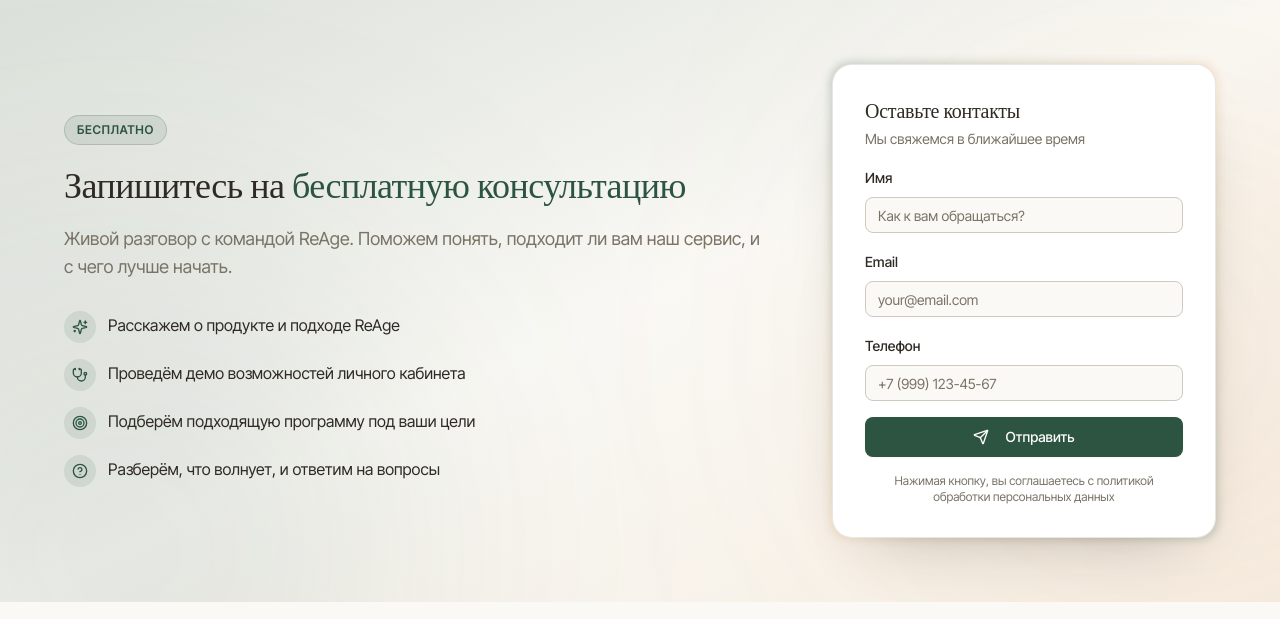
Test: ConsultationCtaBlock › submits successfully without a phone (phone is optional)
This screenshot has width=1280, height=619.
In the field labelled "Имя": (1024, 215) [865,197,1183,233], type "Иван"
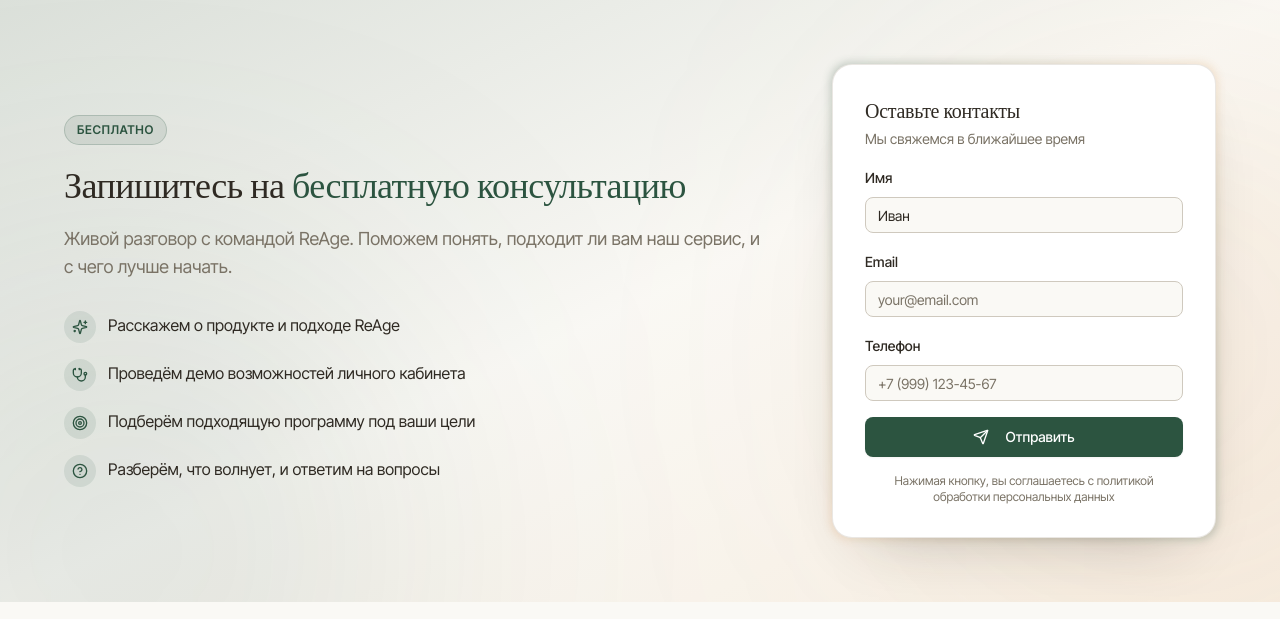
In the field labelled "Email": (1024, 299) [865,281,1183,317], type "ivan@example.com"
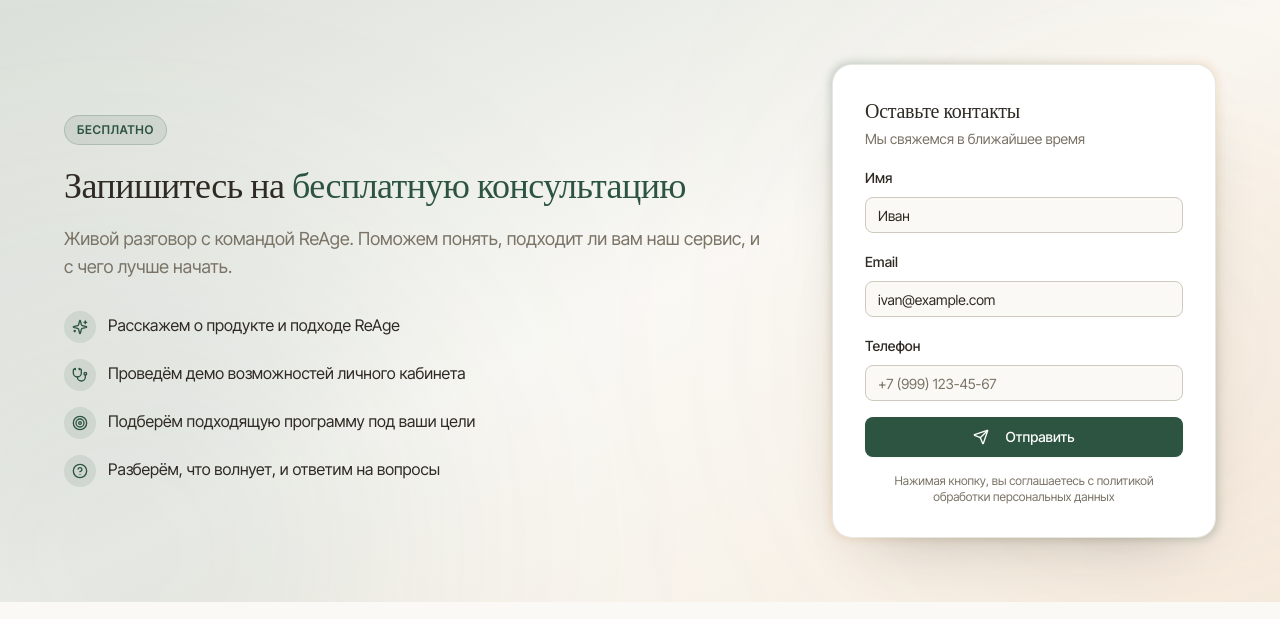
Click the button "Отправить": (1024, 437) [865,417,1183,457]
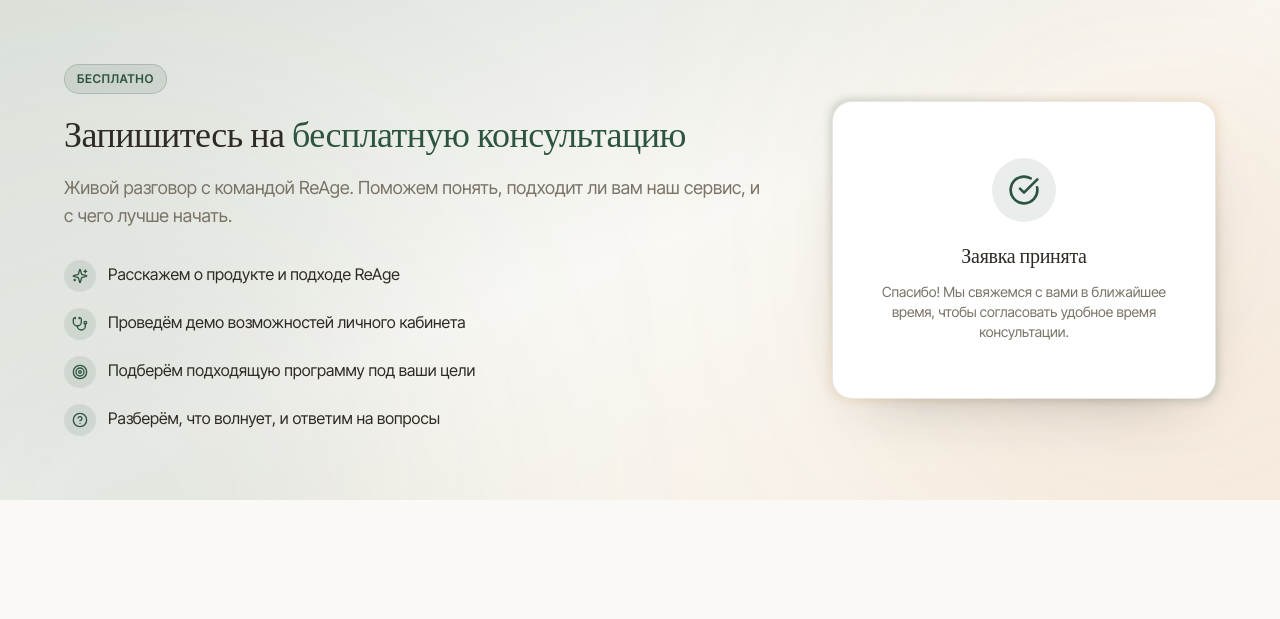
Check: the heading "Заявка принята" is shown, box [961,242,1087,270]
